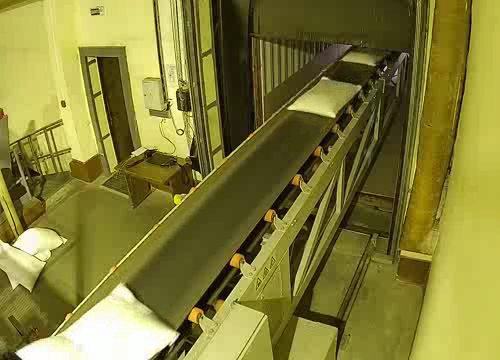bag: (13, 279, 183, 360), (287, 75, 363, 121), (339, 43, 393, 67)
